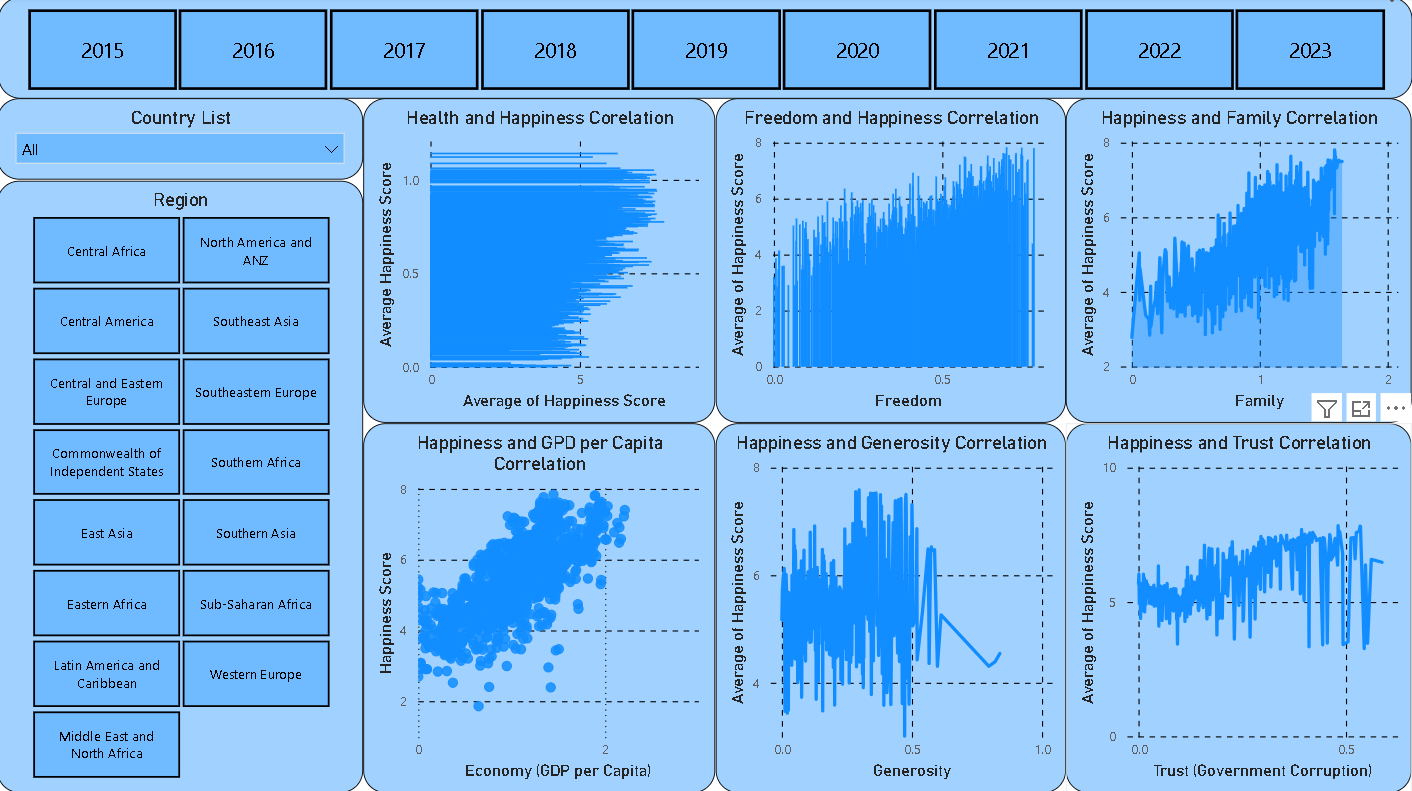

This screenshot's page, from the dashboard's own definition file:
{"tool":"powerbi","page":{"name":"Page 2","canvas":[1280,720],"ordinal":1},"visuals":[{"type":"slicer","title":"Ranking Year","fields":{"Values":["World Happiness 2015-2023.Year Ranked"]},"box":[1.3,0,1278.9,92.1],"z":0},{"type":"areaChart","title":"Happiness and Family Correlation","fields":{"Y":["Avg(World Happiness 2015-2023.Happiness Score)"],"Category":["World Happiness 2015-2023.Family"]},"box":[967.1,92.1,313.2,293.4],"z":1000},{"type":"slicer","title":"Country List","fields":{"Values":["World Happiness 2015-2023.Country"]},"box":[0,92.1,331.6,73.7],"z":2000},{"type":"slicer","title":"Region","fields":{"Values":["World Happiness 2015-2023.Region"]},"box":[0,166.2,331.3,554],"z":3000},{"type":"columnChart","title":"Freedom and Happiness Correlation","fields":{"Category":["World Happiness 2015-2023.Freedom"],"Y":["Avg(World Happiness 2015-2023.Happiness Score)"]},"box":[650,92.1,317.1,293.4],"z":4000},{"type":"barChart","title":"Health and Happiness Corelation","fields":{"Category":["World Happiness 2015-2023.Health (Life Expectancy)"],"Y":["Avg(World Happiness 2015-2023.Happiness Score)"]},"box":[331.6,92.1,318.4,293.4],"z":5000},{"type":"scatterChart","title":"Happiness and GPD per Capita Correlation","fields":{"X":["World Happiness 2015-2023.Economy (GDP per Capita)"],"Y":["World Happiness 2015-2023.Happiness Score"]},"box":[331.6,385.5,318.4,334.2],"z":6000},{"type":"lineChart","title":"Happiness and Generosity Correlation","fields":{"Y":["Avg(World Happiness 2015-2023.Happiness Score)"],"Category":["World Happiness 2015-2023.Generosity"]},"box":[650,385.5,317.1,334.2],"z":7000},{"type":"lineStackedColumnComboChart","title":"Happiness and Trust Correlation","fields":{"Category":["World Happiness 2015-2023.Trust (Government Corruption)"],"Y2":["Avg(World Happiness 2015-2023.Happiness Score)"]},"box":[967,386,313,334],"z":8000}]}

Visuals, with their boxes in screenshot pixels (x1, y1, x2, y2), scaled from the page's 1280x720 canvas onto the 1412x791 screenshot:
"Ranking Year" slicer: crop(1, 0, 1411, 101)
"Happiness and Family Correlation" areaChart: crop(1067, 101, 1411, 424)
"Country List" slicer: crop(0, 101, 366, 182)
"Region" slicer: crop(0, 183, 365, 790)
"Freedom and Happiness Correlation" columnChart: crop(717, 101, 1067, 424)
"Health and Happiness Corelation" barChart: crop(366, 101, 717, 424)
"Happiness and GPD per Capita Correlation" scatterChart: crop(366, 424, 717, 790)
"Happiness and Generosity Correlation" lineChart: crop(717, 424, 1067, 790)
"Happiness and Trust Correlation" lineStackedColumnComboChart: crop(1067, 424, 1411, 790)
